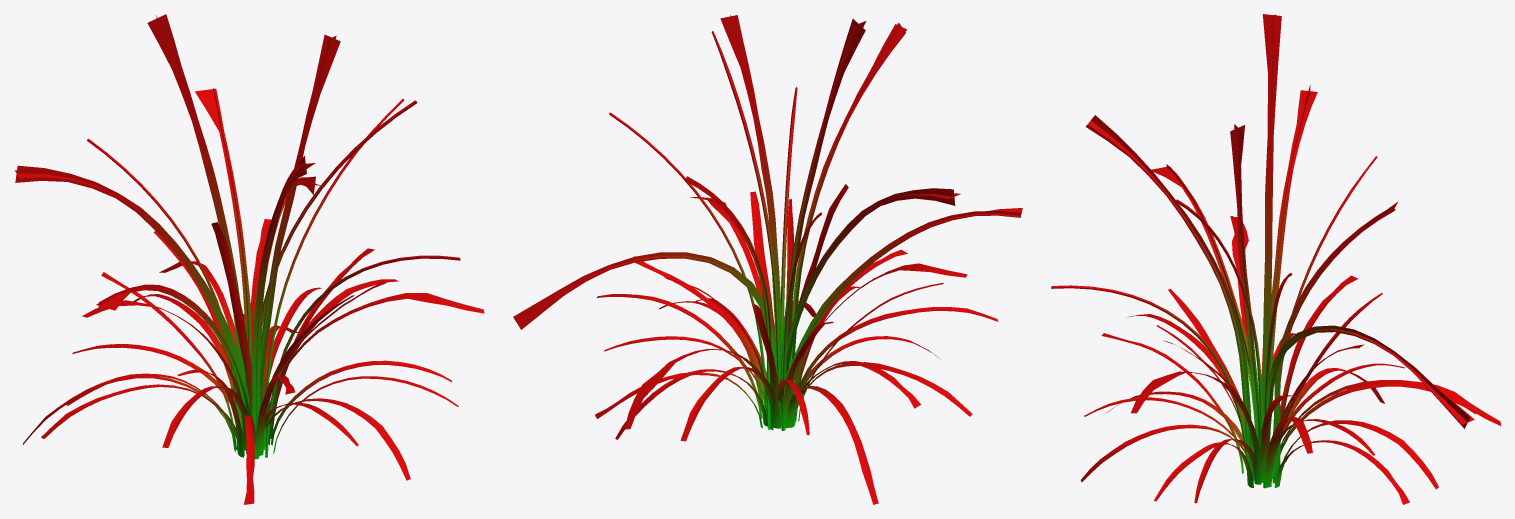
The model's file is White Windflower_LOD0_Var4_sktlN.fbx.
The picture shows the model from 3 angles, left to right: view 1: azimuth 30°, elevation 25°; view 2: azimuth 150°, elevation 25°; view 3: azimuth 270°, elevation 25°; orthographic projection. The views are drawn at different scales.
Parts seen in each view (by area): view 1: _2c5b_Var4_LOD0; view 2: _2c5b_Var4_LOD0; view 3: _2c5b_Var4_LOD0.
Part boxes in pixels (<box>): _2c5b_Var4_LOD0: <box>14,14,484,504</box>; _2c5b_Var4_LOD0: <box>513,14,1022,504</box>; _2c5b_Var4_LOD0: <box>1051,14,1500,504</box>.
Bounding box in the file's own units: 66.86 × 74.85 × 71.12.
